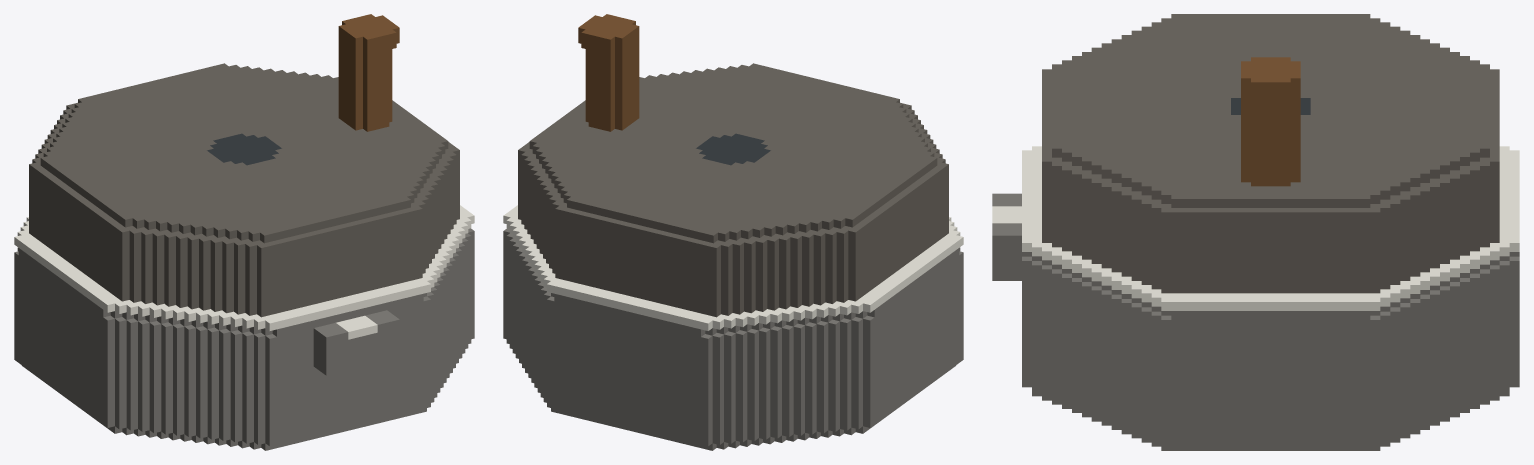
Rendered from rock_quern.glb.
The picture shows the model from 3 angles, left to right: view 1: azimuth 30°, elevation 25°; view 2: azimuth 150°, elevation 25°; view 3: azimuth 270°, elevation 25°; orthographic projection. The views are drawn at different scales.
Parts seen in each view (by area): view 1: rock_quern:compound; view 2: rock_quern:compound; view 3: rock_quern:compound.
Part boxes in pixels (x1=…): rock_quern:compound: x1=14, y1=14, x2=474, y2=450; rock_quern:compound: x1=503, y1=14, x2=963, y2=450; rock_quern:compound: x1=992, y1=14, x2=1519, y2=450.
Size of the model in its own units: 0.3 by 0.234 by 0.318.
